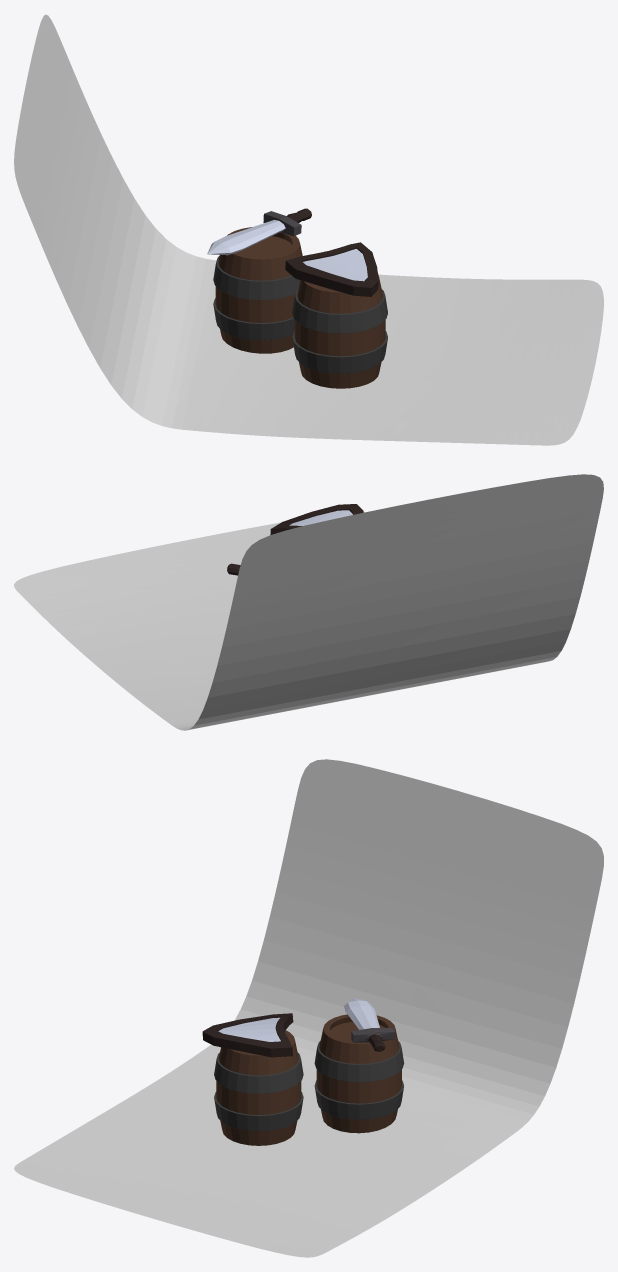
File: barrels.glb
The picture shows the model from 3 angles, top to bottom: view 1: azimuth 30°, elevation 25°; view 2: azimuth 150°, elevation 25°; view 3: azimuth 270°, elevation 25°; orthographic projection. The views are drawn at different scales.
Parts seen in each view (by area): view 1: Plane, barrel2, barrel, shield, sword; view 2: Plane, shield; view 3: Plane, barrel, barrel2, shield, sword.
Part boxes in pixels (left/top/right/bottom): Plane: left=14, top=14, right=603, bottom=445; barrel2: left=292, top=272, right=387, bottom=388; barrel: left=213, top=227, right=302, bottom=353; shield: left=285, top=242, right=378, bottom=296; sword: left=207, top=208, right=311, bottom=255; Plane: left=14, top=474, right=603, bottom=730; shield: left=270, top=504, right=363, bottom=534; Plane: left=14, top=759, right=603, bottom=1257; barrel: left=314, top=1014, right=404, bottom=1133; barrel2: left=214, top=1030, right=303, bottom=1145; shield: left=202, top=1013, right=293, bottom=1057; sword: left=344, top=998, right=394, bottom=1051.
Size of the model in its own units: 15.46 by 6.72 by 14.56.
